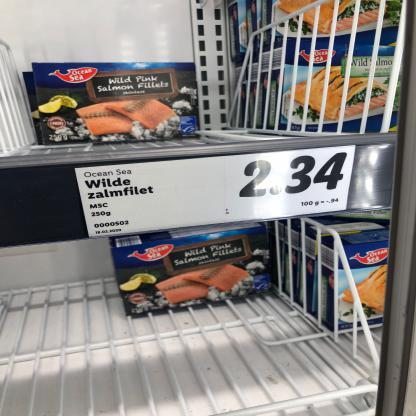prtg: (75, 147, 356, 239)
